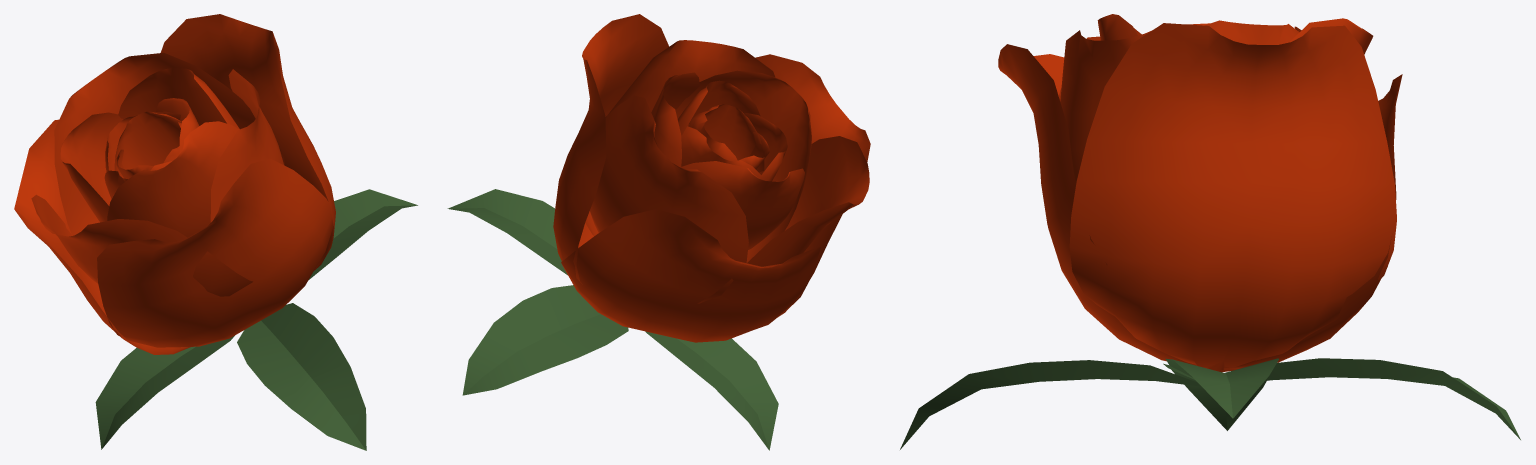
Rendered from Rosas1.2.fbx.
3 views of the same model, side by side, from view 1: azimuth 30°, elevation 25°; view 2: azimuth 150°, elevation 25°; view 3: azimuth 270°, elevation 25° (orthographic). The views are drawn at different scales.
Visible parts, largest first — view 1: polySurface123, polySurface517; view 2: polySurface123, polySurface517; view 3: polySurface123, polySurface517.
Part boxes in pixels (x1,y1,x2,y2): polySurface123: (14,14,335,354); polySurface517: (95,189,417,450); polySurface123: (553,14,870,342); polySurface517: (447,189,778,450); polySurface123: (998,14,1402,372); polySurface517: (900,358,1520,449).
Size of the model in its own units: 6.44 by 6.03 by 6.64.
